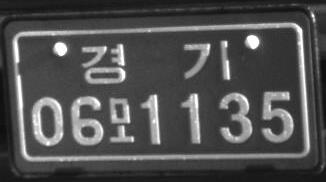0: (30, 97, 64, 147)
1: (180, 92, 211, 145), (139, 92, 166, 146)
3: (217, 91, 254, 144)
5: (260, 89, 294, 144)
6: (68, 95, 105, 147)
경기_D: (79, 38, 233, 86)
모: (108, 96, 136, 144)
